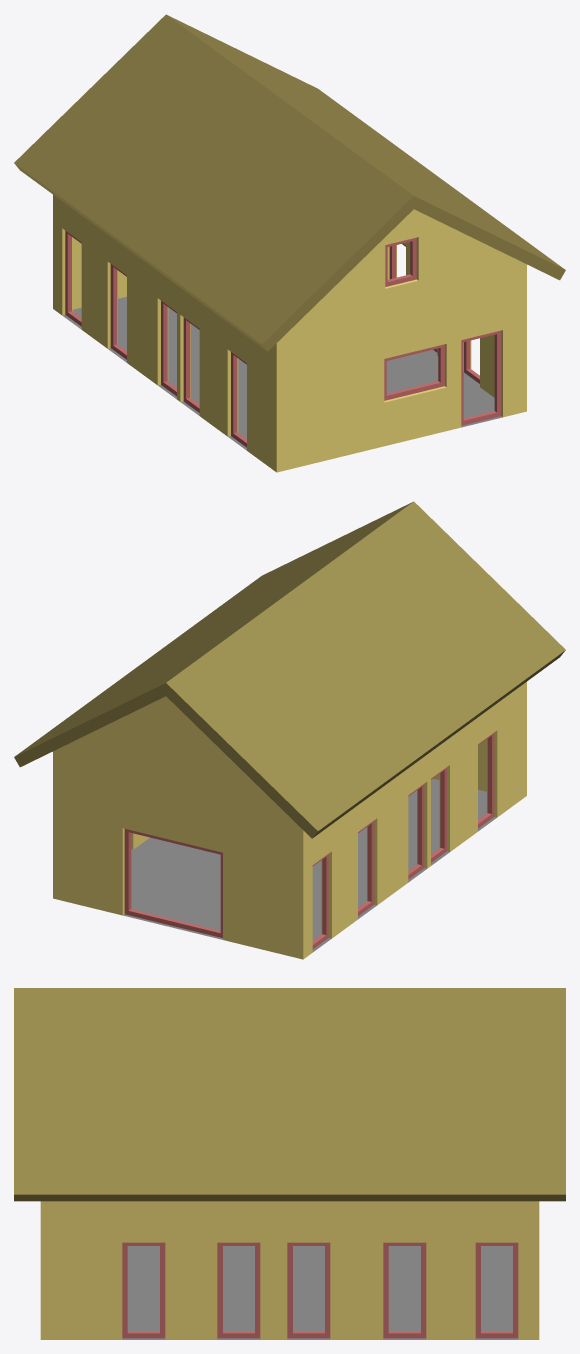
Rendered from result.glb.
3 views of the same model, one above another, from view 1: azimuth 30°, elevation 25°; view 2: azimuth 150°, elevation 25°; view 3: azimuth 270°, elevation 25° (orthographic). The views are drawn at different scales.
Visible parts, largest first — view 1: 542be6d0-7ef6-40df-b0f1-129b7bbdd2b4__undefined (×2), 944109a7-86e0-4b96-9a92-906e5edbe71b__undefined, 0da951df-91d7-4c1c-bdc3-d49362c9f3df__Plane_24, fa8aaa74-146d-4fa9-bb57-9af4a991c34e__Box, e24a4e65-1609-4bf3-b3a7-088ccef86318__Box_3, 3652c851-a81c-4858-934f-a9ac3fcd8d0a__Box_15, 82d733cd-31eb-45a1-a2b2-b52eb7eddd5a__Box_21, 37003844-473e-4724-9d65-216ddea2c02a__Box_24, d2930a5b-3318-450a-85c0-ca170a8fcab1__Box_12, dff39add-5b45-482d-b24b-16b752587862__Box_18, ac3bb9b7-afb8-42f4-89d3-ba01d02f1ee4__Box_6; view 2: 542be6d0-7ef6-40df-b0f1-129b7bbdd2b4__undefined (×2), 944109a7-86e0-4b96-9a92-906e5edbe71b__undefined, 0da951df-91d7-4c1c-bdc3-d49362c9f3df__Plane_24, 9e890c3c-96e8-49a7-9f95-3cb85c252303__Box_9, 82d733cd-31eb-45a1-a2b2-b52eb7eddd5a__Box_21, d2930a5b-3318-450a-85c0-ca170a8fcab1__Box_12, dff39add-5b45-482d-b24b-16b752587862__Box_18, 37003844-473e-4724-9d65-216ddea2c02a__Box_24, 3652c851-a81c-4858-934f-a9ac3fcd8d0a__Box_15; view 3: 542be6d0-7ef6-40df-b0f1-129b7bbdd2b4__undefined, 944109a7-86e0-4b96-9a92-906e5edbe71b__undefined, 0da951df-91d7-4c1c-bdc3-d49362c9f3df__Plane_24, ba04c24f-7c8c-45f8-9050-74f5c15c9b1d__Box_42, 403daad5-0362-40dd-9f8d-418d847cf6de__Box_45, b5ca46e9-a832-4c31-b8ca-f7048704df10__Box_48, 35ea3b76-9a71-4051-b7d5-b35604db6d2a__Box_51, a7982273-c6bd-4e28-b6a7-dd125a96a5ee__Box_54.
Part boxes in pixels (bbox=[...]): 542be6d0-7ef6-40df-b0f1-129b7bbdd2b4__undefined (×2): bbox=[14, 14, 565, 351]; 944109a7-86e0-4b96-9a92-906e5edbe71b__undefined: bbox=[53, 195, 526, 472]; 0da951df-91d7-4c1c-bdc3-d49362c9f3df__Plane_24: bbox=[63, 296, 502, 450]; fa8aaa74-146d-4fa9-bb57-9af4a991c34e__Box: bbox=[461, 330, 501, 425]; e24a4e65-1609-4bf3-b3a7-088ccef86318__Box_3: bbox=[384, 344, 444, 400]; 3652c851-a81c-4858-934f-a9ac3fcd8d0a__Box_15: bbox=[183, 317, 199, 412]; 82d733cd-31eb-45a1-a2b2-b52eb7eddd5a__Box_21: bbox=[110, 264, 126, 359]; 37003844-473e-4724-9d65-216ddea2c02a__Box_24: bbox=[65, 231, 81, 326]; d2930a5b-3318-450a-85c0-ca170a8fcab1__Box_12: bbox=[231, 352, 246, 447]; dff39add-5b45-482d-b24b-16b752587862__Box_18: bbox=[161, 301, 176, 396]; ac3bb9b7-afb8-42f4-89d3-ba01d02f1ee4__Box_6: bbox=[385, 237, 416, 286]; 542be6d0-7ef6-40df-b0f1-129b7bbdd2b4__undefined (×2): bbox=[14, 501, 565, 838]; 944109a7-86e0-4b96-9a92-906e5edbe71b__undefined: bbox=[53, 682, 526, 959]; 0da951df-91d7-4c1c-bdc3-d49362c9f3df__Plane_24: bbox=[123, 778, 496, 952]; 9e890c3c-96e8-49a7-9f95-3cb85c252303__Box_9: bbox=[124, 829, 222, 937]; 82d733cd-31eb-45a1-a2b2-b52eb7eddd5a__Box_21: bbox=[358, 820, 374, 915]; d2930a5b-3318-450a-85c0-ca170a8fcab1__Box_12: bbox=[478, 733, 494, 828]; dff39add-5b45-482d-b24b-16b752587862__Box_18: bbox=[408, 784, 424, 879]; 37003844-473e-4724-9d65-216ddea2c02a__Box_24: bbox=[312, 854, 328, 949]; 3652c851-a81c-4858-934f-a9ac3fcd8d0a__Box_15: bbox=[431, 767, 446, 862]; 542be6d0-7ef6-40df-b0f1-129b7bbdd2b4__undefined: bbox=[14, 988, 565, 1201]; 944109a7-86e0-4b96-9a92-906e5edbe71b__undefined: bbox=[40, 1201, 539, 1339]; 0da951df-91d7-4c1c-bdc3-d49362c9f3df__Plane_24: bbox=[122, 1246, 518, 1339]; ba04c24f-7c8c-45f8-9050-74f5c15c9b1d__Box_42: bbox=[122, 1242, 165, 1338]; 403daad5-0362-40dd-9f8d-418d847cf6de__Box_45: bbox=[217, 1242, 260, 1338]; b5ca46e9-a832-4c31-b8ca-f7048704df10__Box_48: bbox=[287, 1242, 330, 1338]; 35ea3b76-9a71-4051-b7d5-b35604db6d2a__Box_51: bbox=[383, 1242, 426, 1338]; a7982273-c6bd-4e28-b6a7-dd125a96a5ee__Box_54: bbox=[475, 1242, 518, 1338].
Size of the model in its own units: 729 by 584 by 1029.
